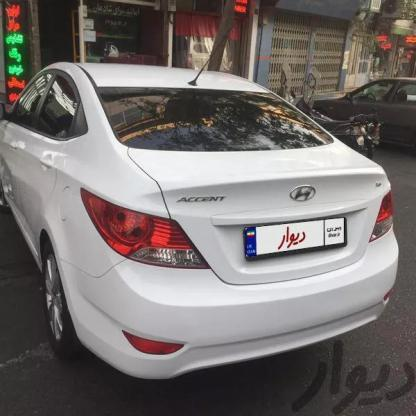Car: (0, 51, 393, 396), (312, 54, 416, 183)
